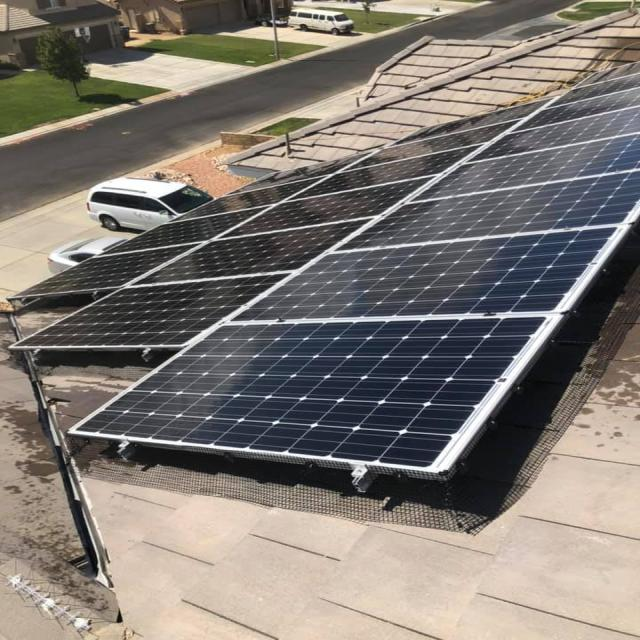clean-solar-panel: (15, 67, 640, 487)
